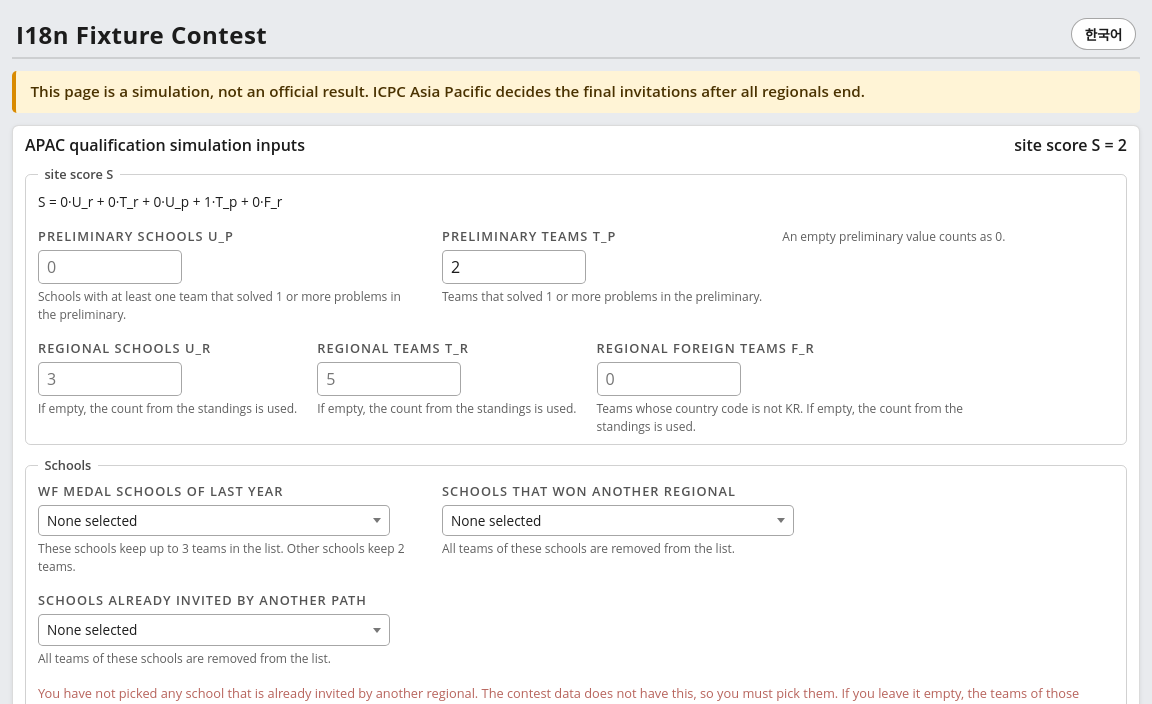
Test: English mode shows no Korean › the school picker texts are English too
Click the button "None selected" below "WF medal schools of last year": (92, 520) 38,505 -> 390,536
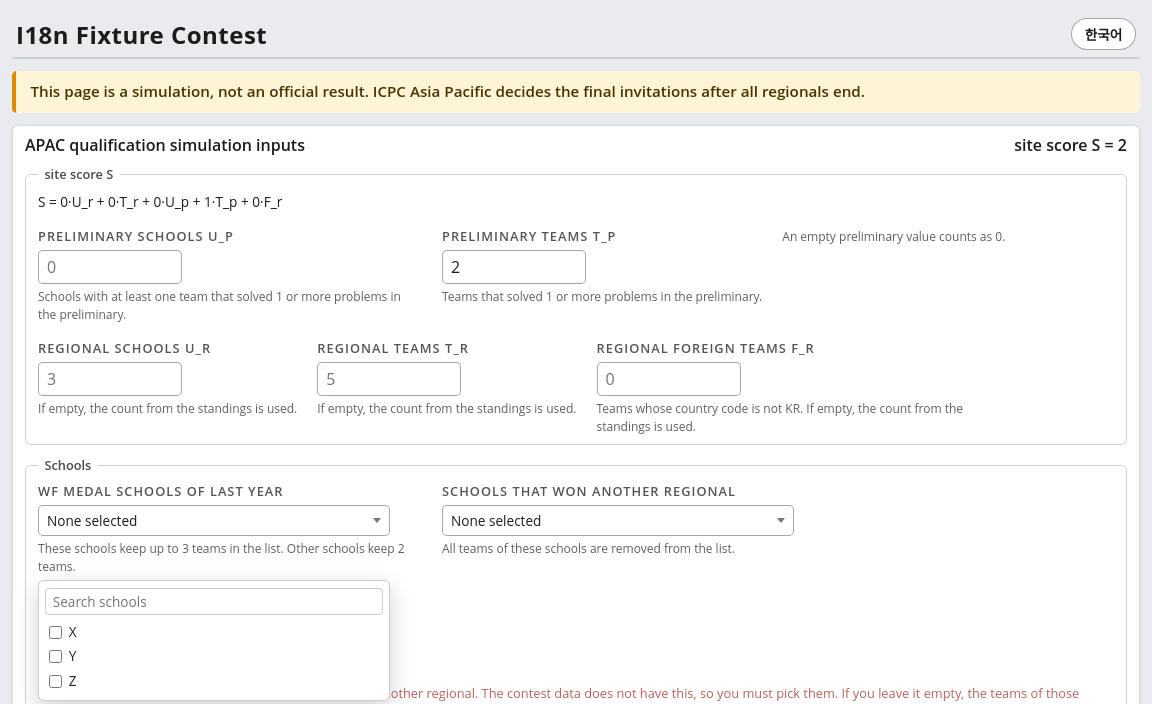
In the field with placeholder "Search schools": (214, 602) 45,588 -> 383,615, type "nothing like this"
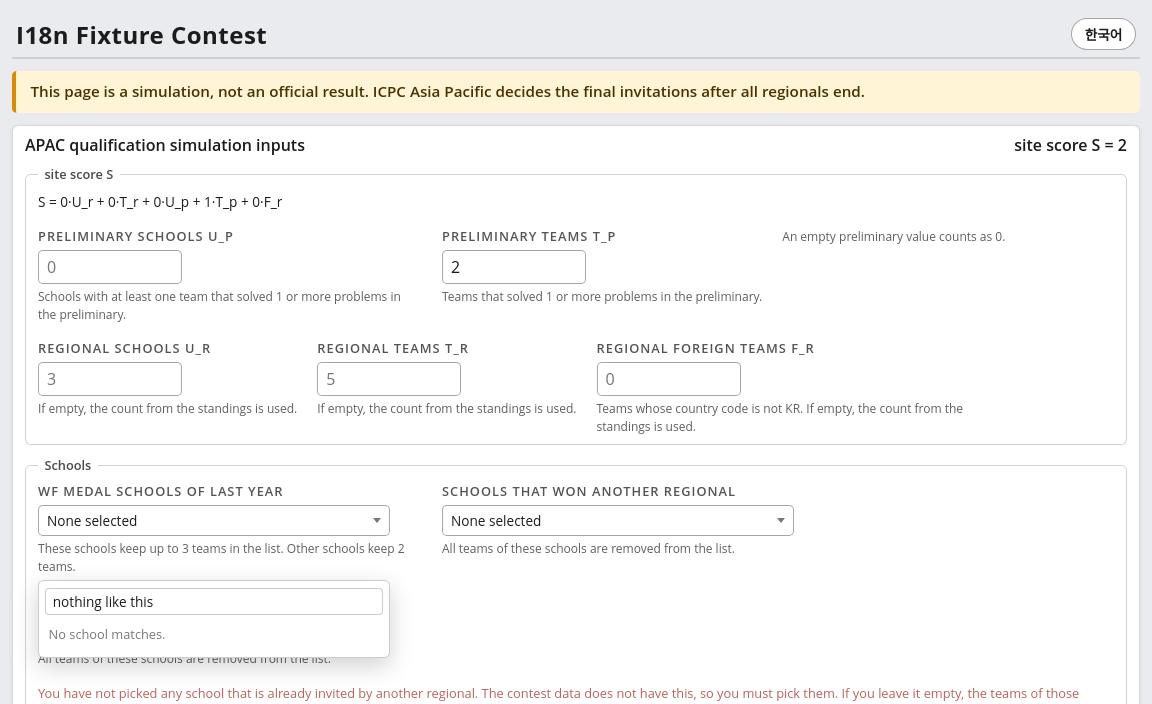
Now the text "No school matches." is shown, box 49,625 -> 166,643
Clear the 6th field: (214, 602) 45,588 -> 383,615
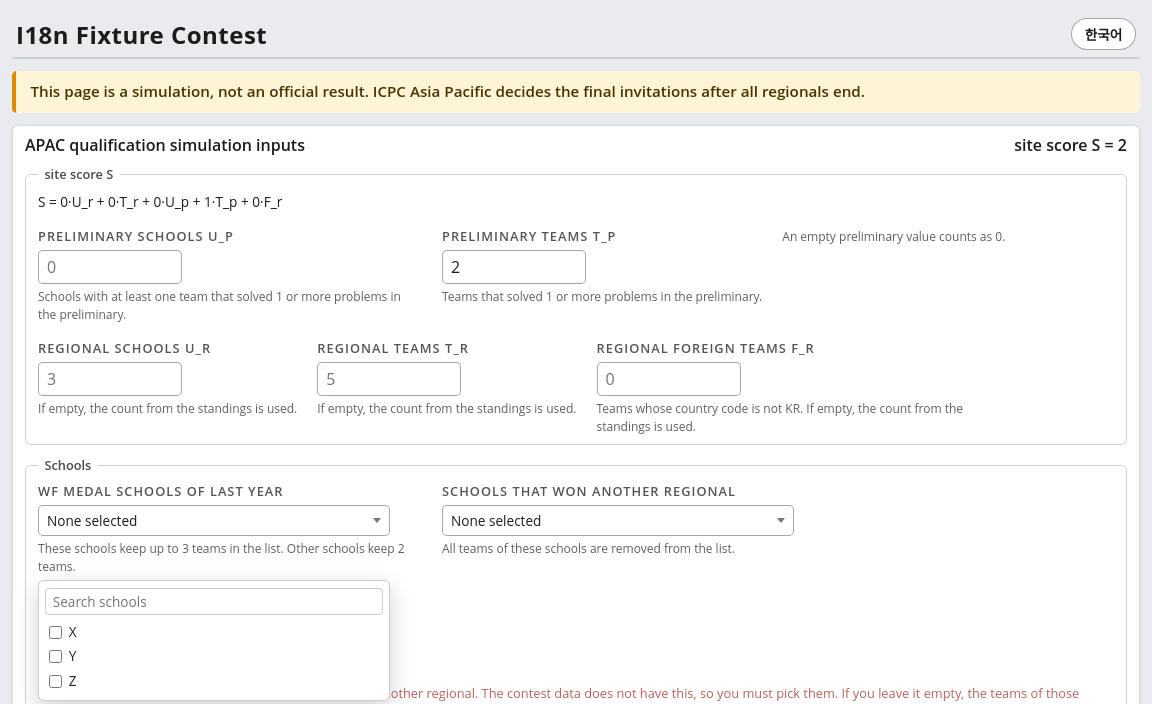
Click the checkbox labelled "X": (55, 632) 49,626 -> 62,639
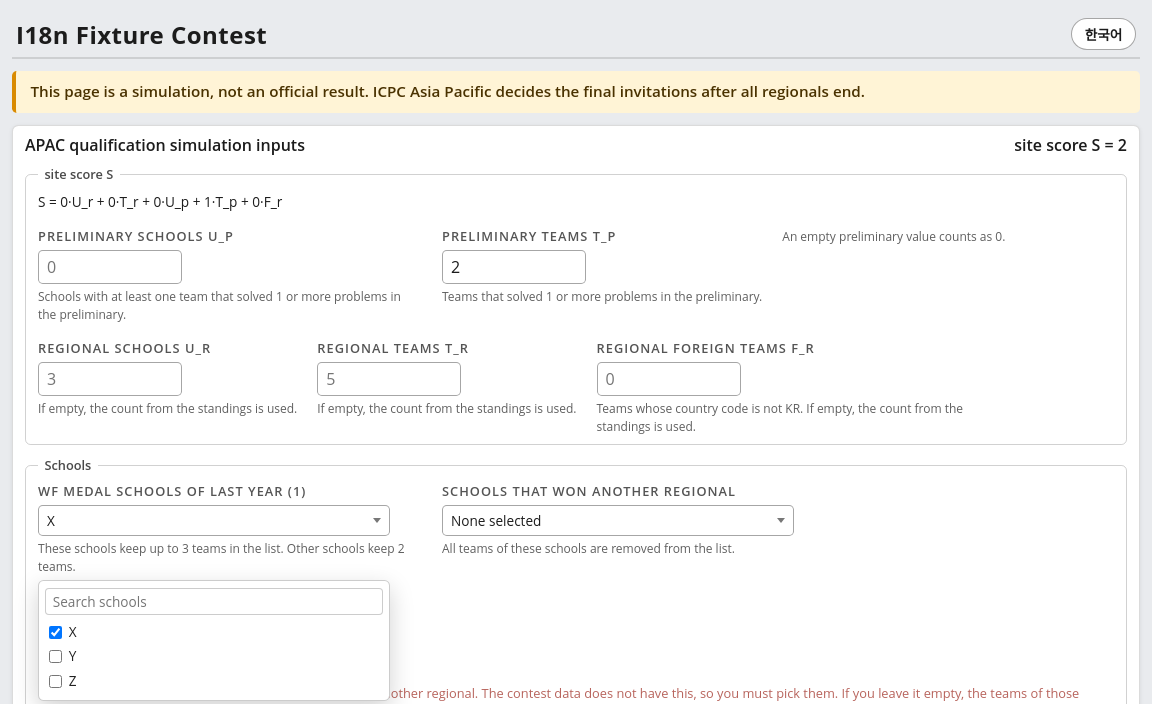
Click the checkbox labelled "Y": (55, 657) 49,650 -> 62,663
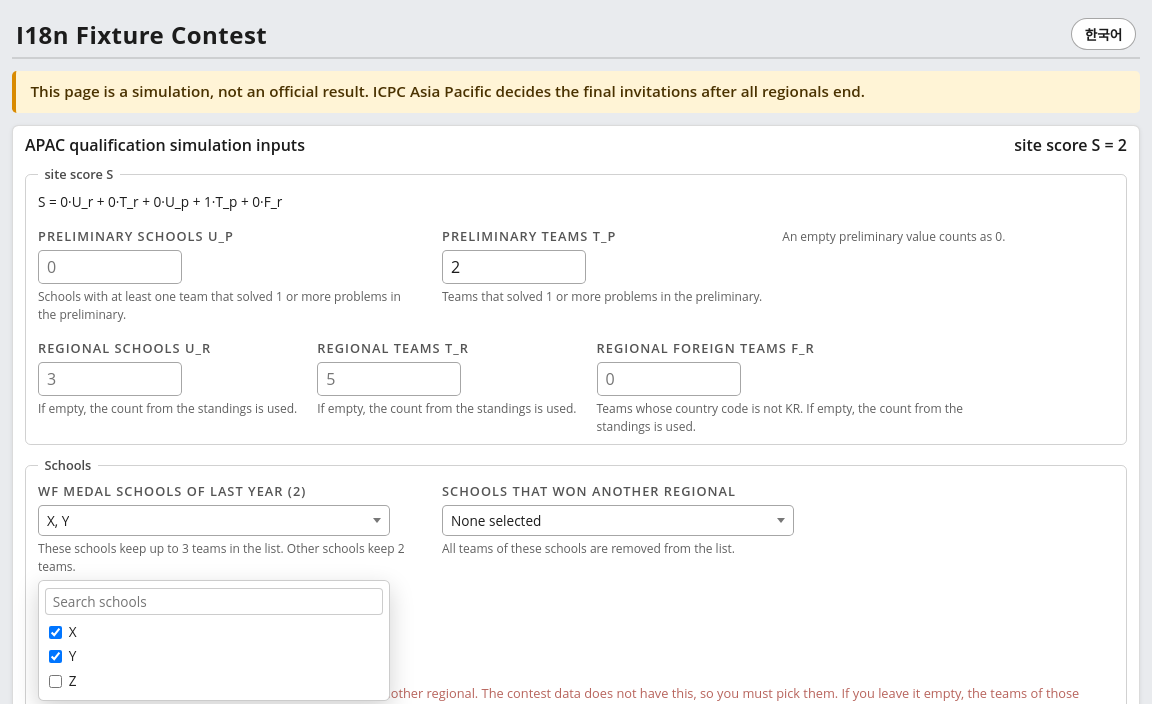
Click the checkbox labelled "Z": (55, 681) 49,675 -> 62,688
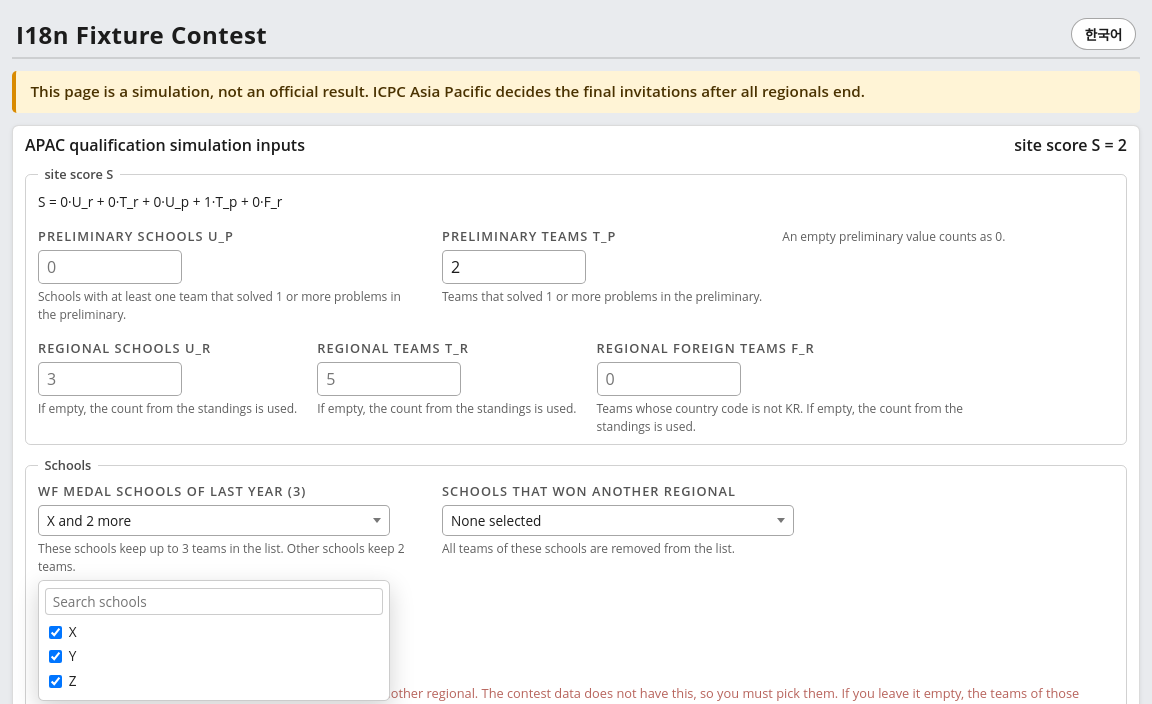
Now the button "X and 2 more" is shown, box 38,505 -> 390,536
